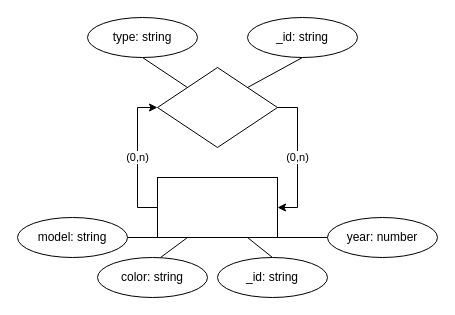
This 455x315 diagram has some shape labels left out. Here are the shapes that lost their labels. From the top down, the box of each, then its label:
(156, 66, 278, 148): Event
(156, 176, 278, 238): Car
